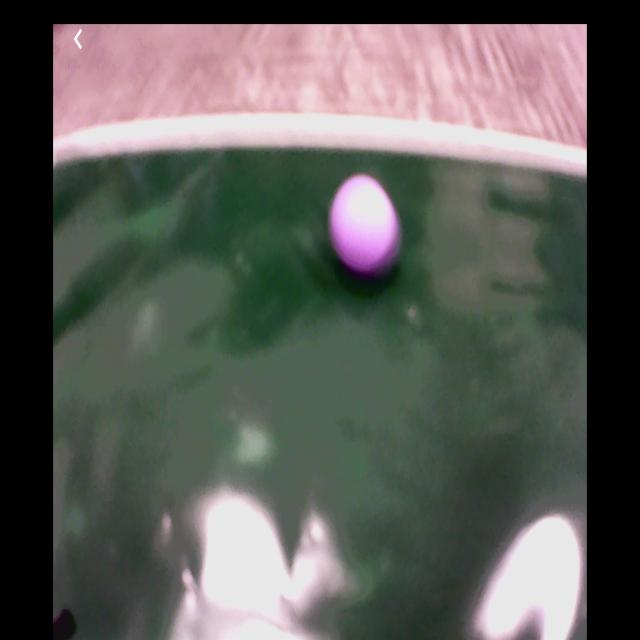ball: (331, 177, 400, 277)
